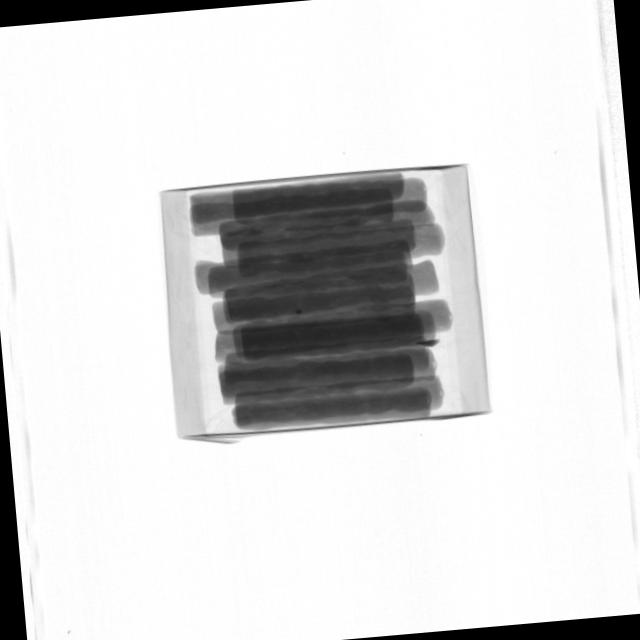ym: (415, 338, 441, 348), (294, 309, 302, 315)
